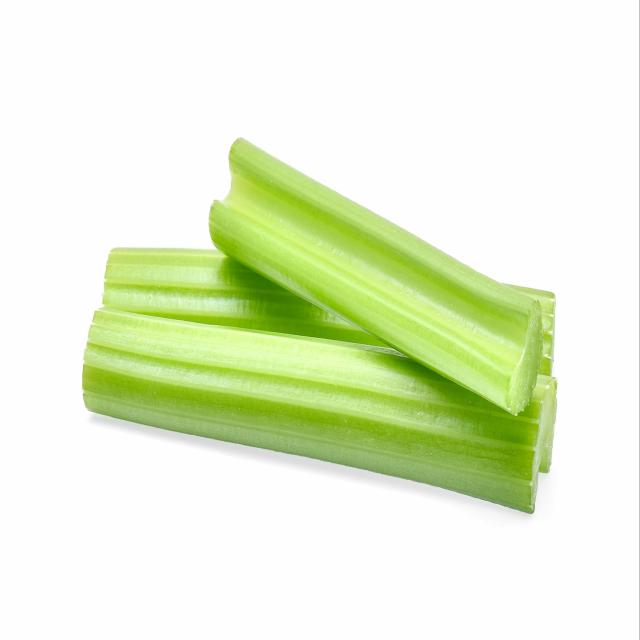Celery stalk: (76, 136, 562, 521)
